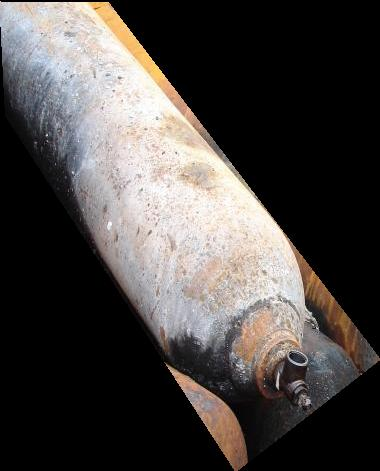cylinder: (0, 1, 380, 471)
